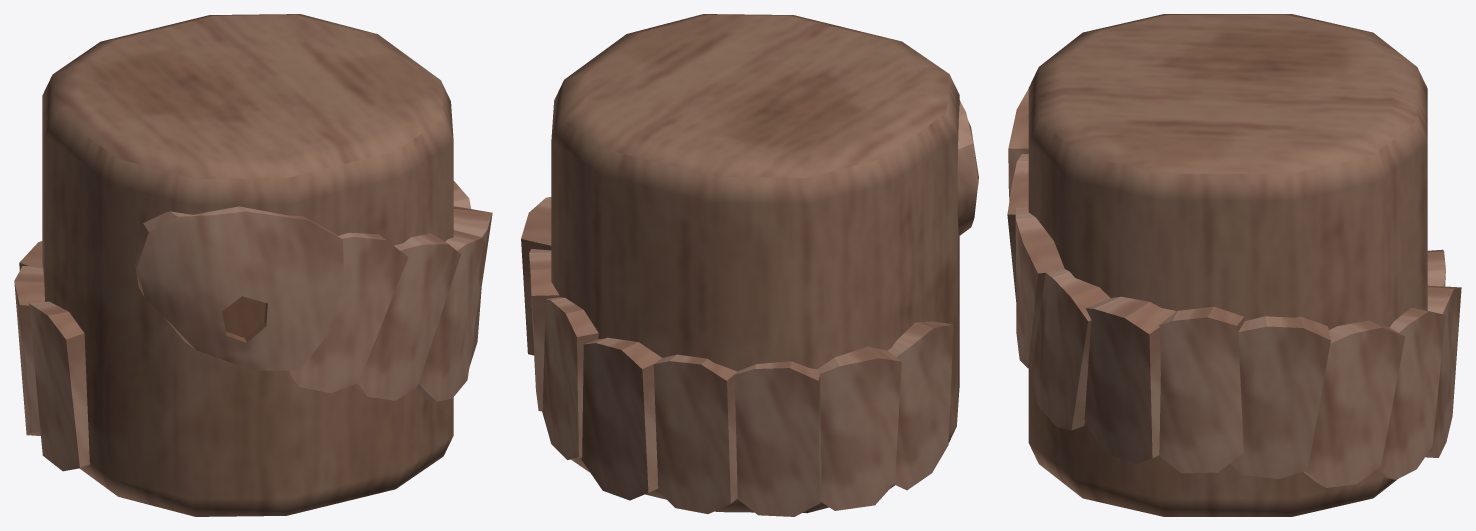
The model's file is totem_pole_catapollar.fbx.
The picture shows the model from 3 angles, left to right: view 1: azimuth 30°, elevation 25°; view 2: azimuth 150°, elevation 25°; view 3: azimuth 270°, elevation 25°; orthographic projection. The views are drawn at different scales.
Parts seen in each view (by area): view 1: totem_pole_catapillar; view 2: totem_pole_catapillar; view 3: totem_pole_catapillar.
Part boxes in pixels (x1,y1,x2,y2): totem_pole_catapillar: (14,14,492,516); totem_pole_catapillar: (521,14,978,516); totem_pole_catapillar: (1007,14,1461,516).
Bounding box in the file's own units: 115 × 100 × 114.
1 material, 1 textured.
